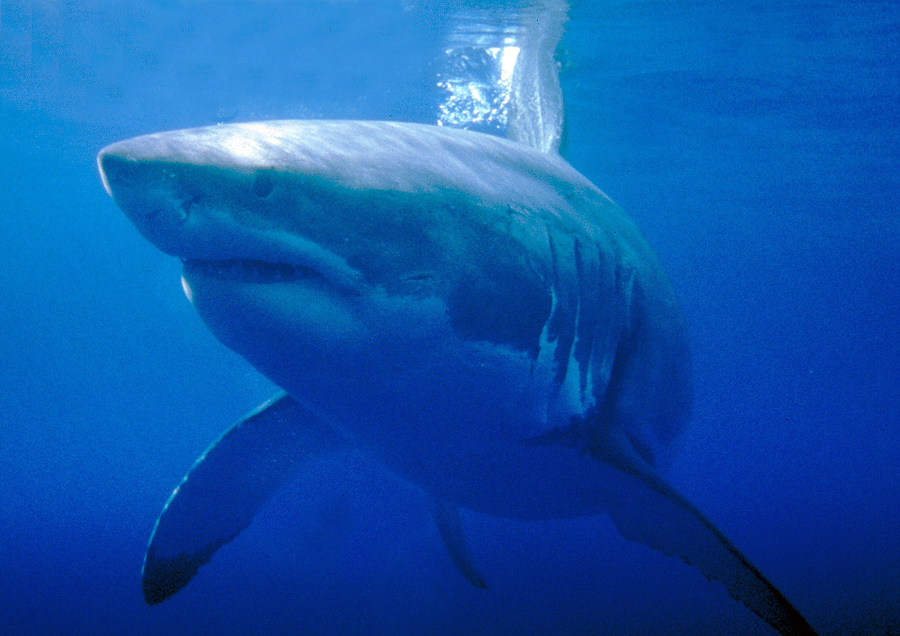Carcharodon_carcharias: (76, 97, 830, 630)
